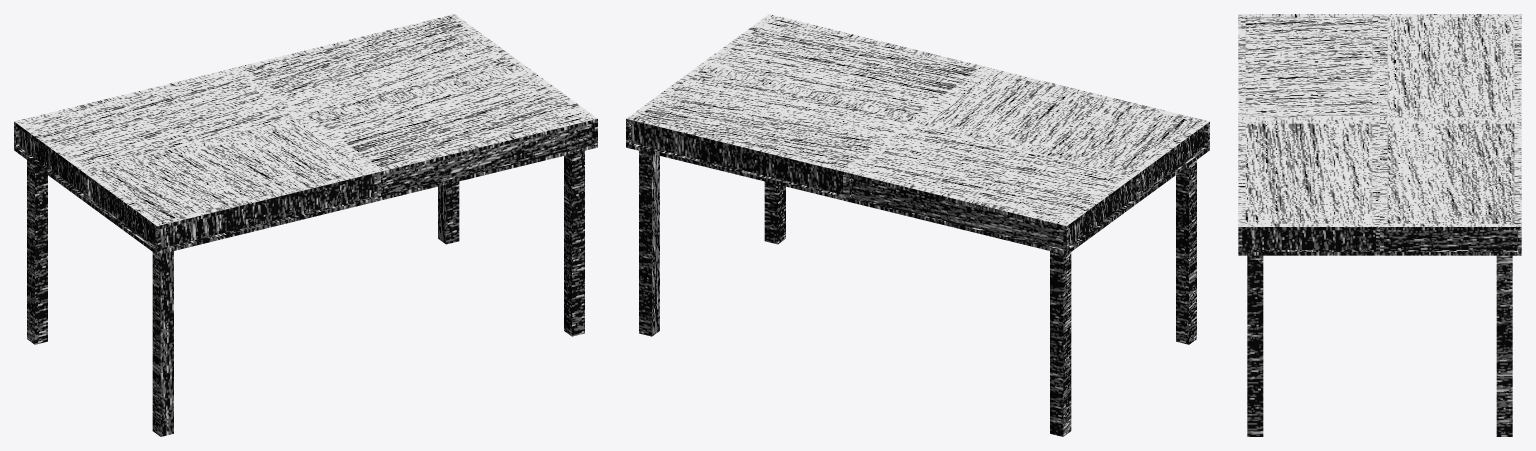
The model's file is table.fbx.
The picture shows the model from 3 angles, left to right: view 1: azimuth 30°, elevation 25°; view 2: azimuth 150°, elevation 25°; view 3: azimuth 270°, elevation 25°; orthographic projection.
Parts seen in each view (by area): view 1: Table; view 2: Table; view 3: Table.
Part boxes in pixels (box(x1,y1,x2,y2)): Table: box(14, 14, 597, 436); Table: box(626, 14, 1209, 436); Table: box(1238, 14, 1521, 436).
Bounding box in the file's own units: 900 × 422 × 506.
